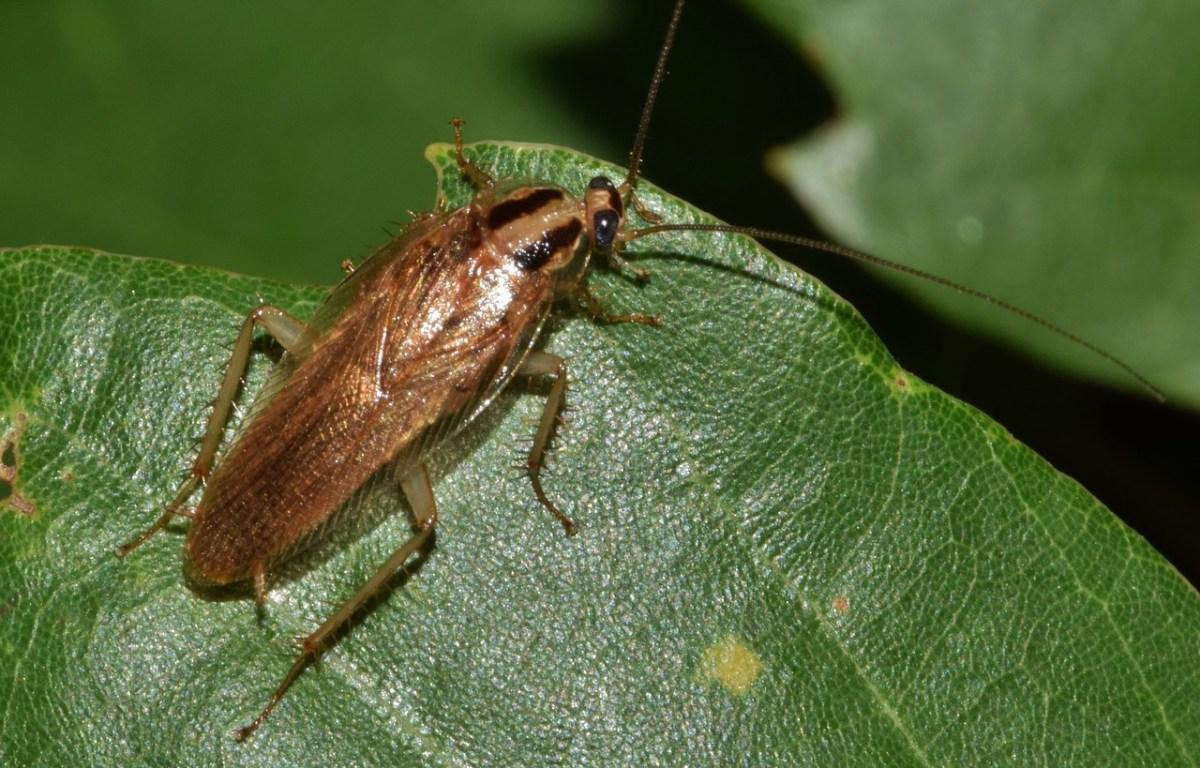cockroach: (182, 160, 632, 604)
